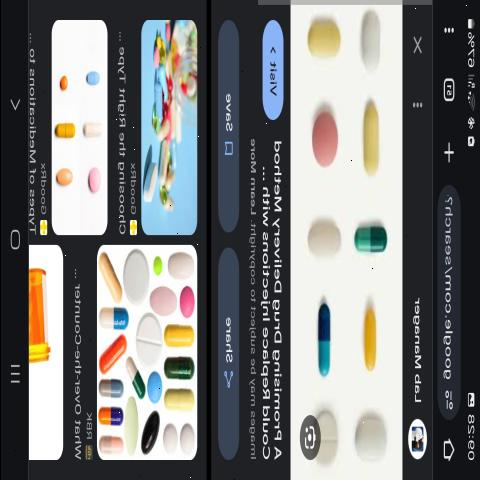Pill: (296, 176, 347, 264), (352, 262, 390, 378), (290, 0, 343, 76), (302, 283, 340, 382), (354, 88, 388, 180), (350, 0, 390, 78), (350, 394, 393, 466), (349, 202, 394, 266), (311, 401, 343, 460)
